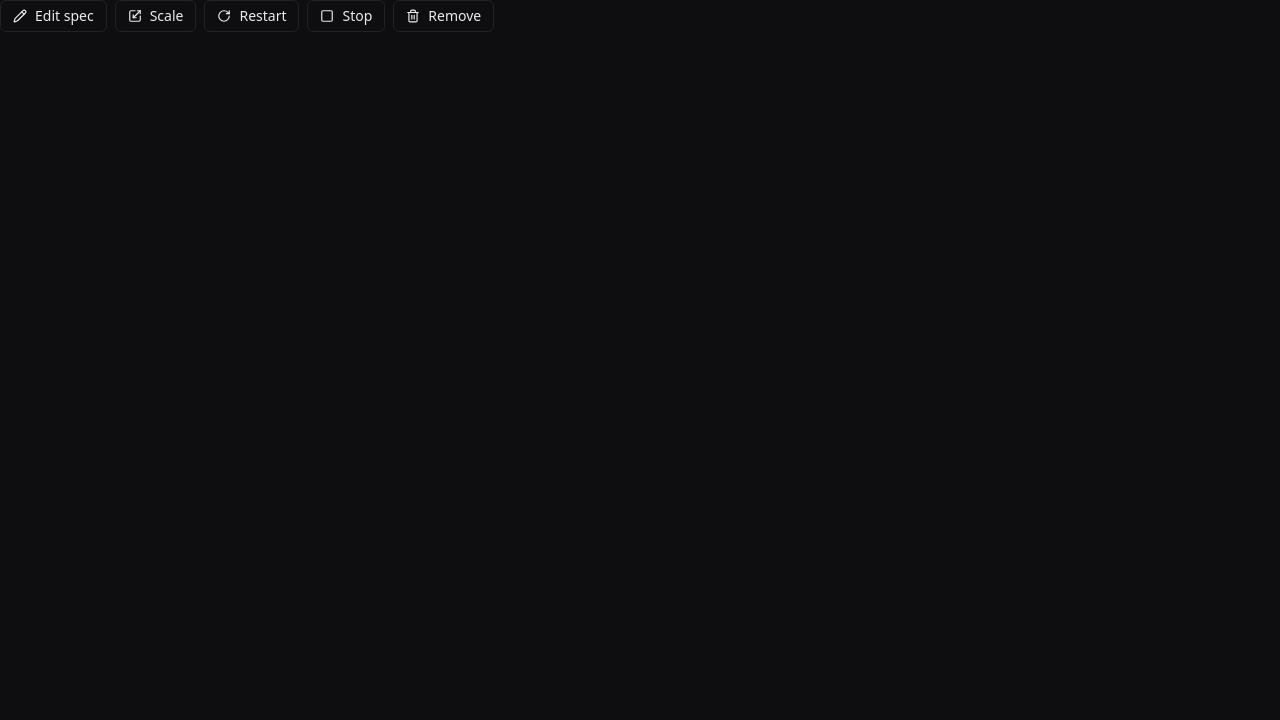
Scenario: ServiceActions scaling › refuses to submit an unchanged count
The width and height of the screenshot is (1280, 720).
Click the button "Scale" at (156, 16), box [115,0,196,32]
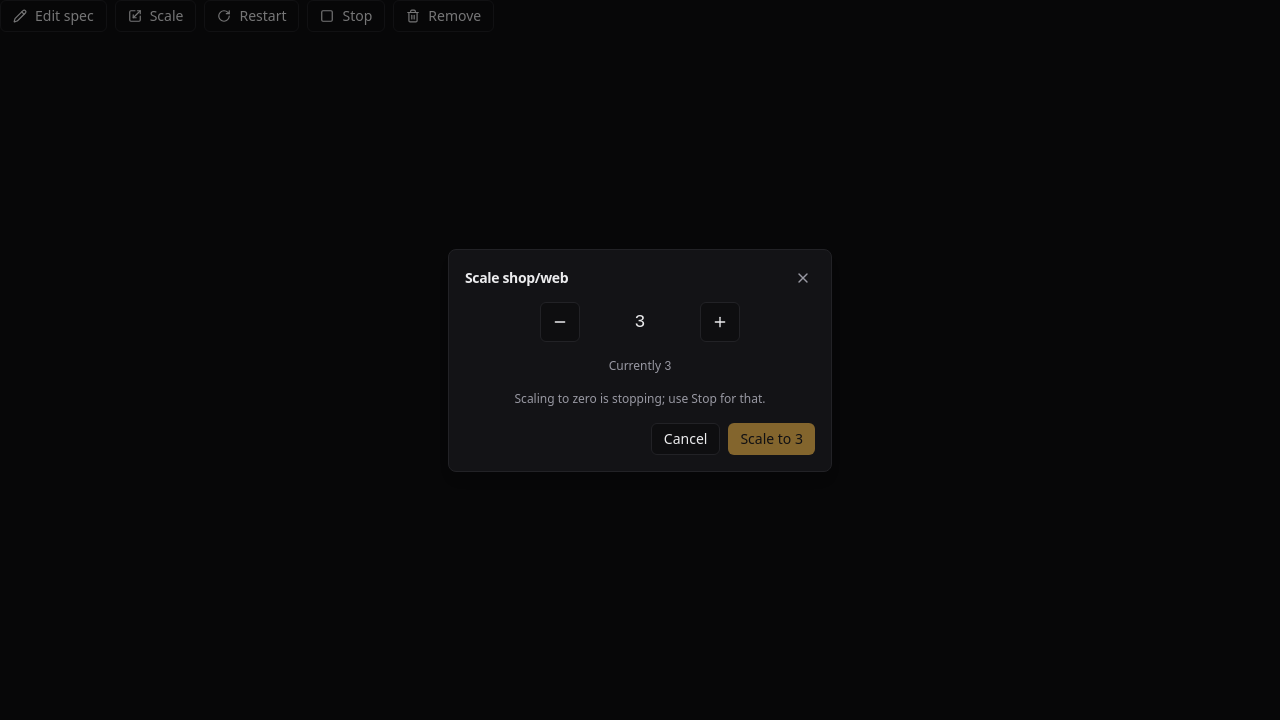
Check: the button "Scale to 3" is disabled, box [728,422,815,454]
Click the button named "More replicas" at (720, 322), box [700,302,740,342]
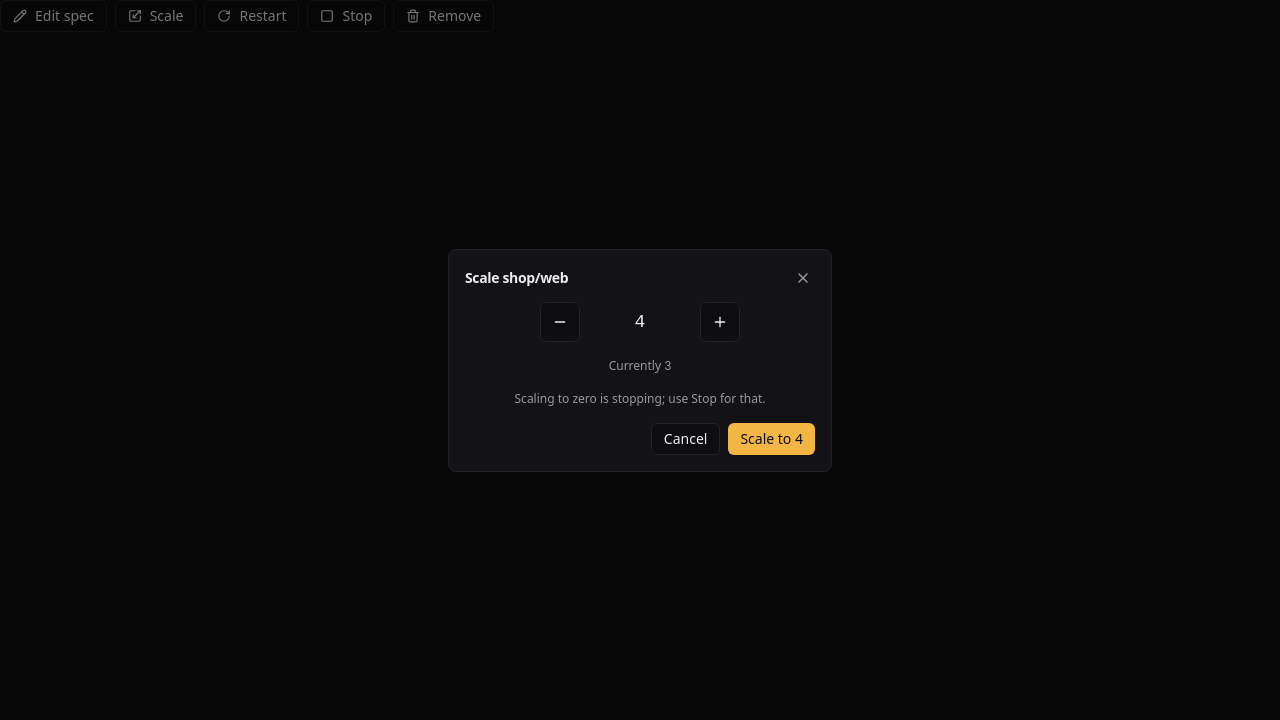
Check: the button "Scale to 4" is enabled, box [728,422,815,454]
